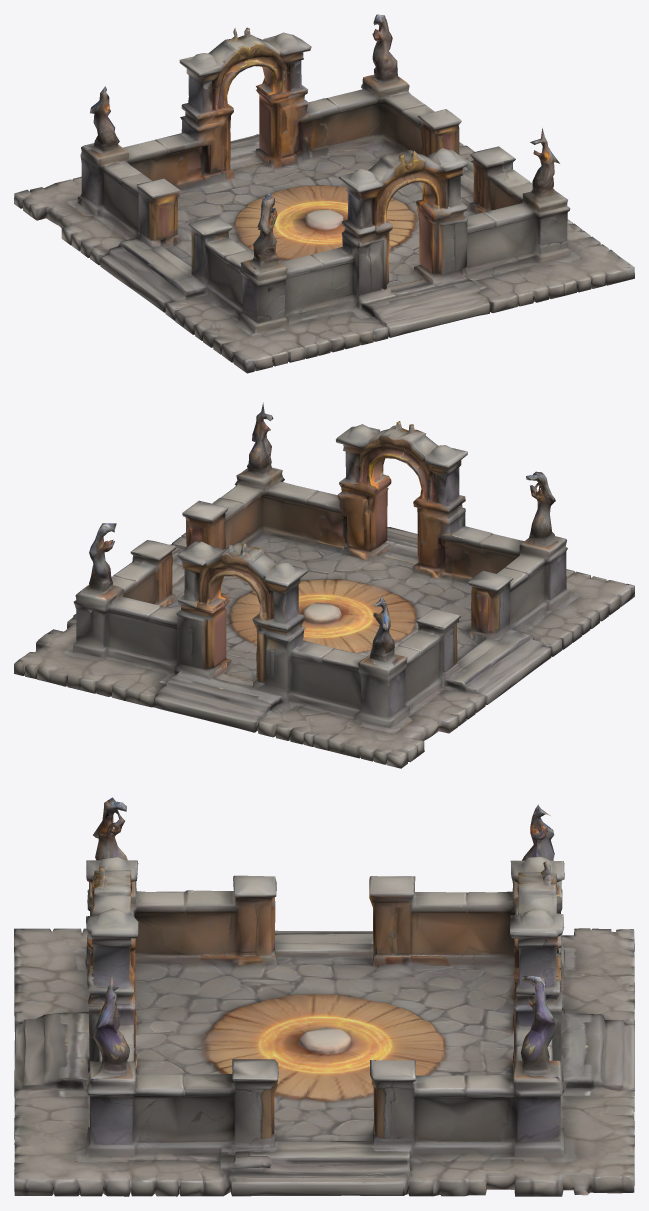
The model's file is create_a_battlefield__0614153437_texture.glb.
3 renders of one model, top to bottom at view 1: azimuth 30°, elevation 25°; view 2: azimuth 150°, elevation 25°; view 3: azimuth 270°, elevation 25°, orthographic. The views are drawn at different scales.
Bounding box in the file's own units: 1.94 × 0.7332 × 2.
Materials: 1 (1 with a texture image).
